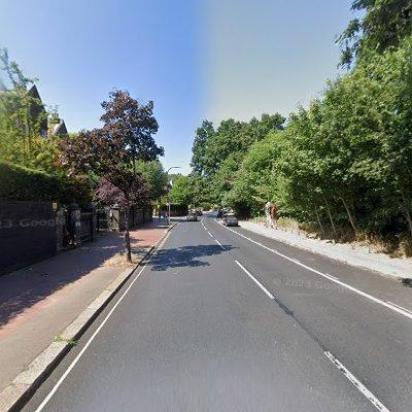moving-car: (186, 211, 198, 223), (190, 207, 204, 217)
stationary-car-onstreet: (221, 210, 240, 228)
